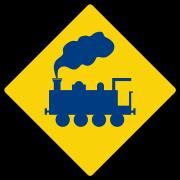Barrier Ahead: (10, 19, 173, 164)
